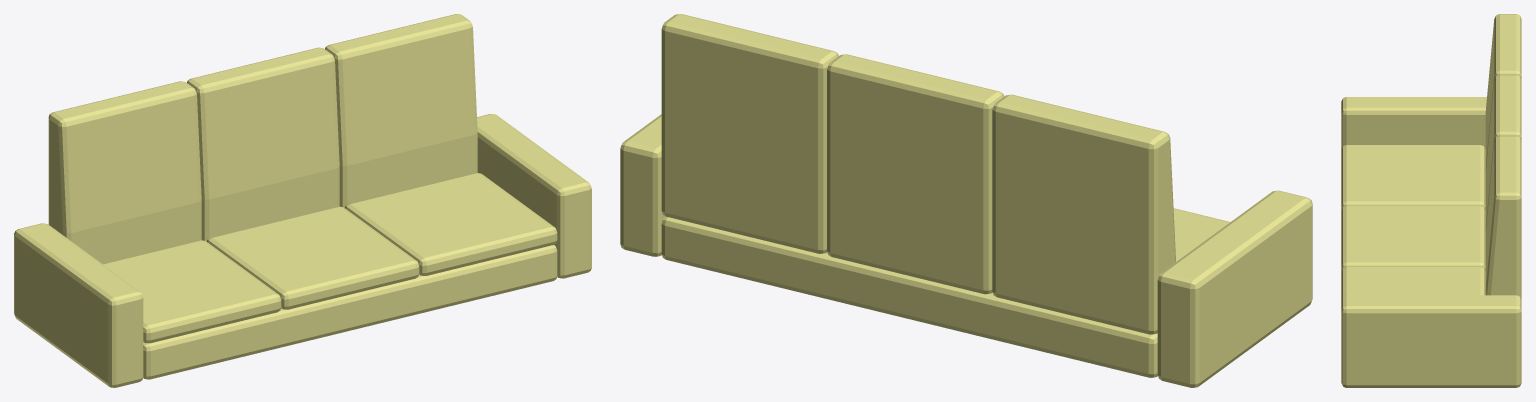
File: Sofa.fbx
3 views of the same model, side by side, from view 1: azimuth 30°, elevation 25°; view 2: azimuth 150°, elevation 25°; view 3: azimuth 270°, elevation 25° (orthographic). The views are drawn at different scales.
Parts seen in each view (by area): view 1: Cube.002; view 2: Cube.002; view 3: Cube.002.
Boxes of the visible parts, x1=… form: Cube.002: x1=14, y1=14, x2=591, y2=387; Cube.002: x1=620, y1=14, x2=1312, y2=387; Cube.002: x1=1341, y1=14, x2=1521, y2=387.
Size of the model in its own units: 280 by 110 by 100.
